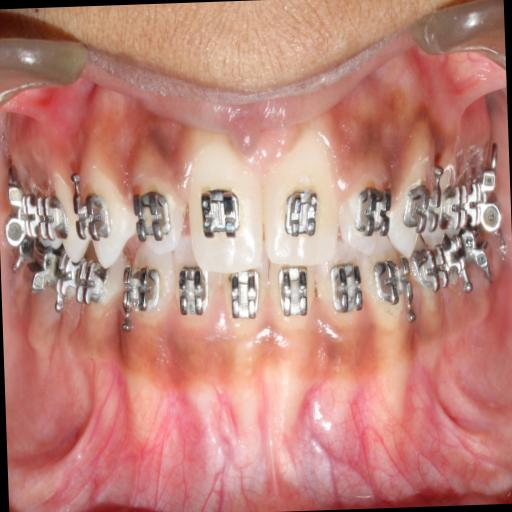correct_brace: (196, 180, 243, 238), (130, 186, 170, 249), (72, 179, 108, 249), (400, 180, 440, 238), (281, 182, 322, 236), (357, 182, 394, 238)
incorrect_brace: (128, 152, 183, 256), (339, 156, 394, 258)
